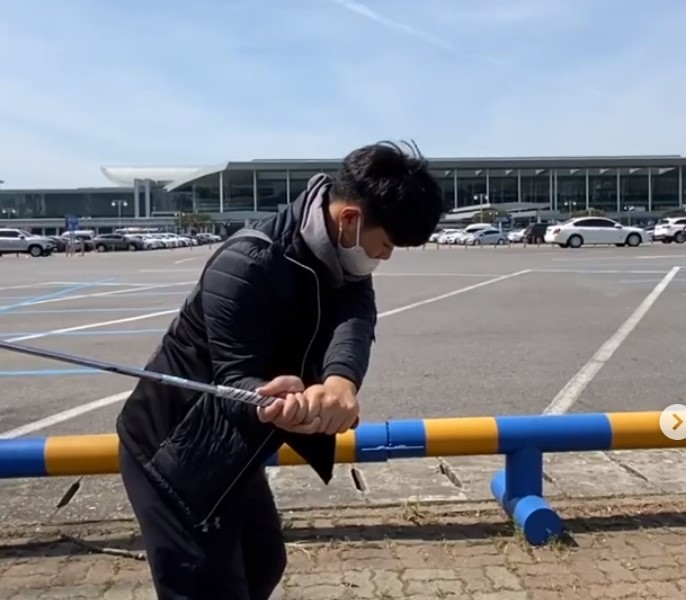face_with_mask: (332, 147, 439, 284)
